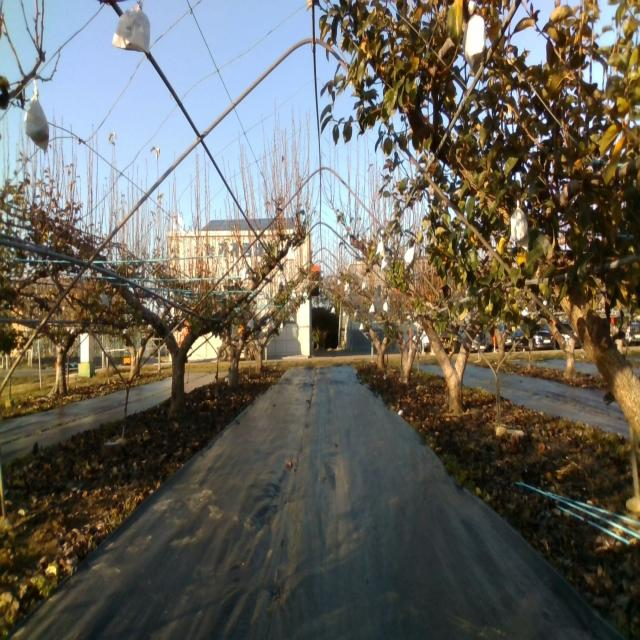pearbags: (110, 1, 152, 57), (24, 86, 49, 148), (462, 14, 486, 68), (509, 205, 529, 251), (404, 248, 415, 270)
